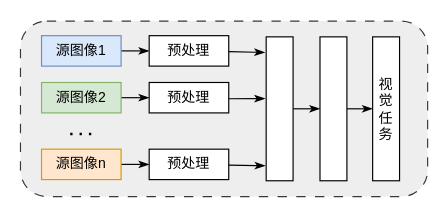
Some shapes in this 448 by 216 pixel diagram are drawn without their labels. Each missing label, with the centre of its shape:
像素级融合: [279,108]
特征提取: [333,108]
